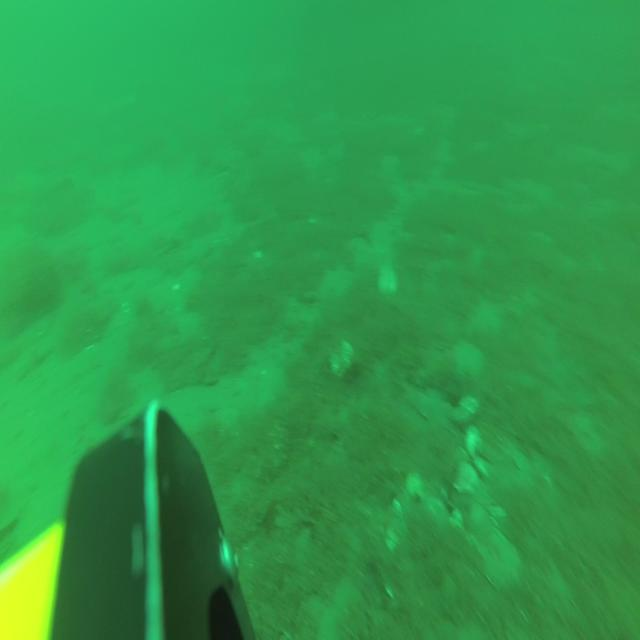scallop: (488, 539, 521, 591), (328, 338, 352, 378), (451, 463, 476, 493), (464, 423, 481, 460), (379, 266, 397, 294)
